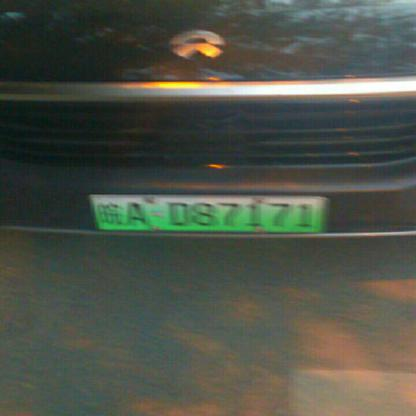lp: (91, 194, 324, 232)
